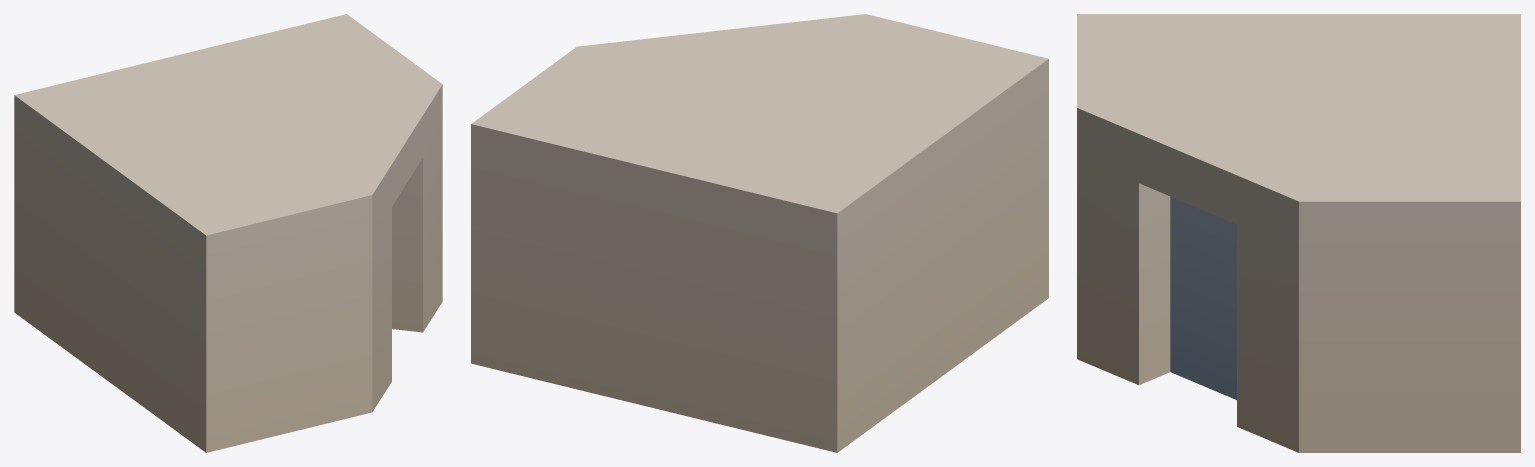
The model's file is building-corner-window-top-square.glb.
3 renders of one model, left to right at view 1: azimuth 30°, elevation 25°; view 2: azimuth 150°, elevation 25°; view 3: azimuth 270°, elevation 25°, orthographic. The views are drawn at different scales.
Visible parts, largest first — view 1: building-corner-window-top-square; view 2: building-corner-window-top-square; view 3: building-corner-window-top-square.
Part boxes in pixels (box(x1,y1,x2,y2)): building-corner-window-top-square: box(14, 14, 442, 452); building-corner-window-top-square: box(471, 14, 1048, 452); building-corner-window-top-square: box(1077, 14, 1520, 452).
Bounding box in the file's own units: 1 × 0.625 × 1.
